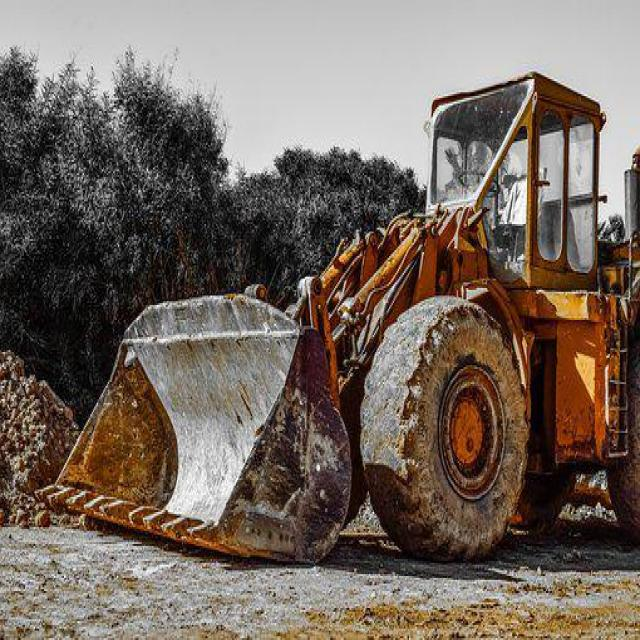pala cargadora: (36, 64, 639, 567)
